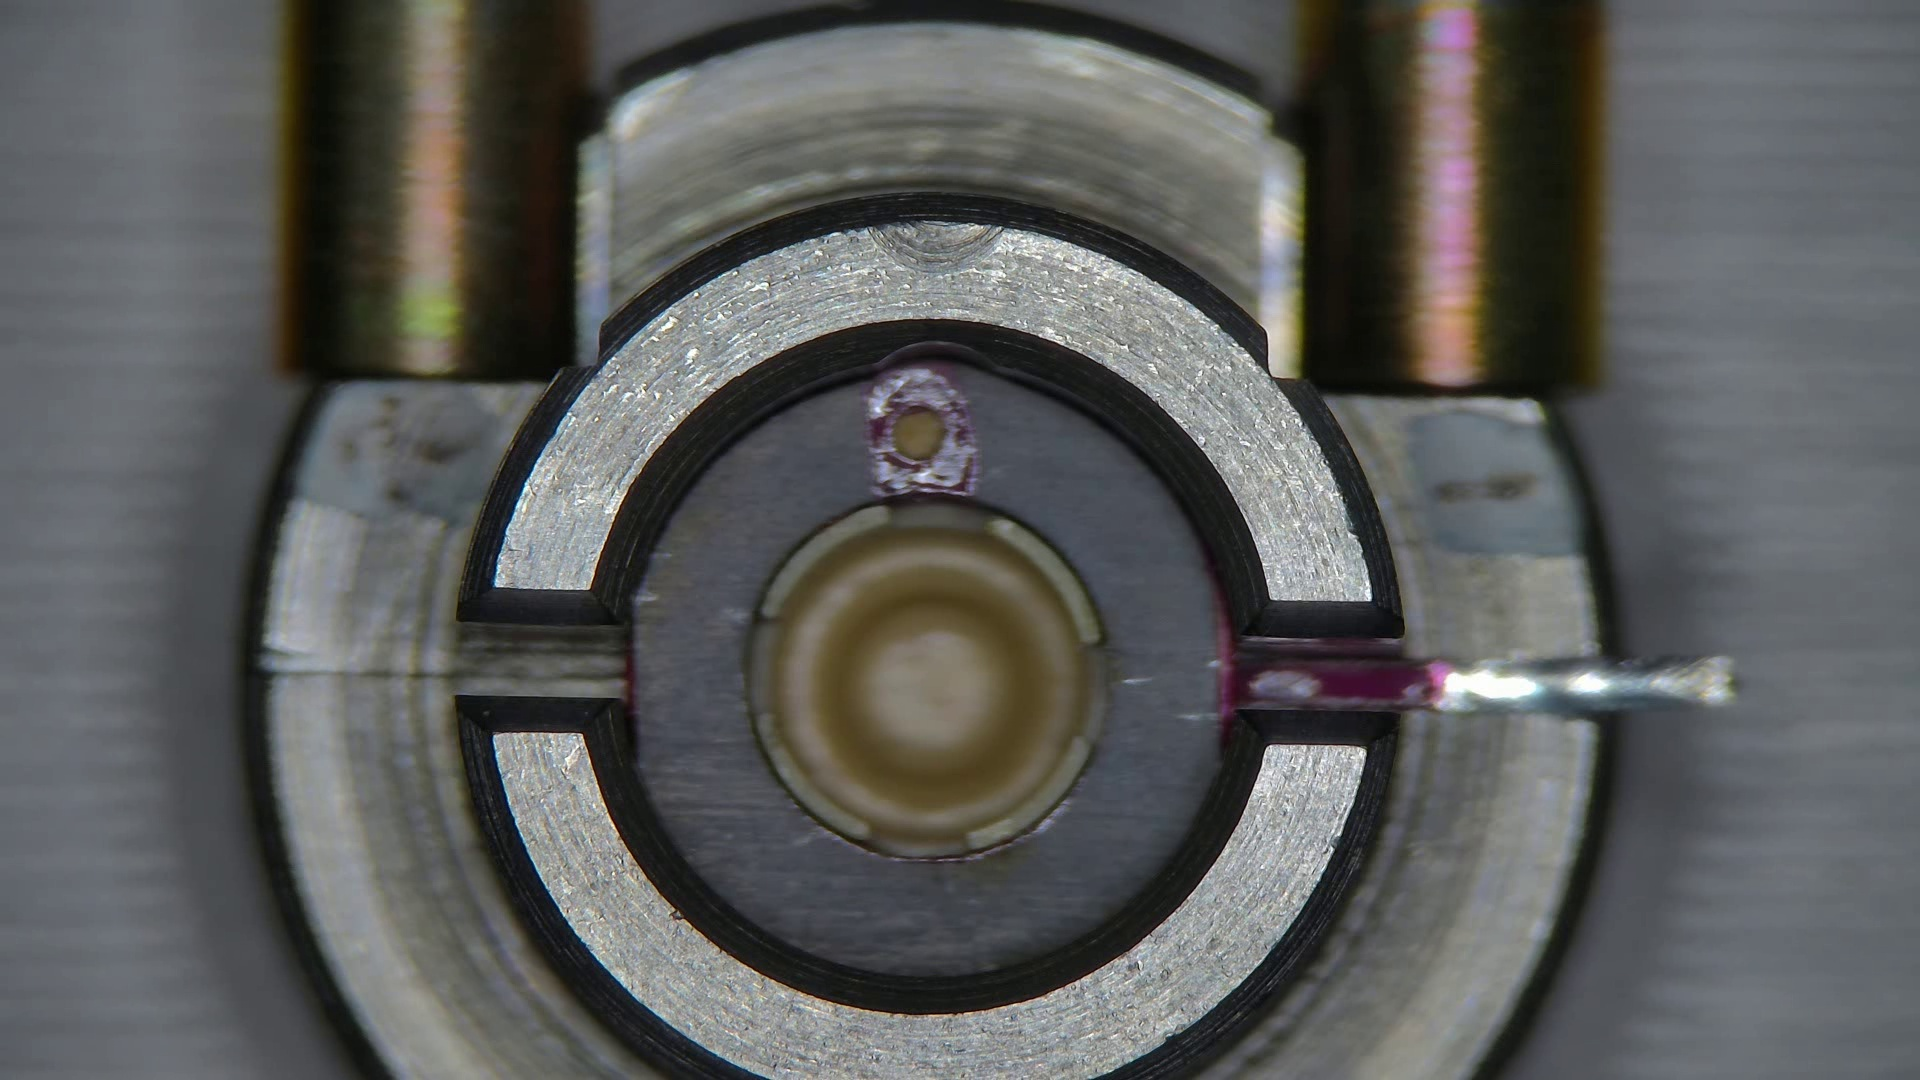YellowOring: (630, 363, 1222, 978)
